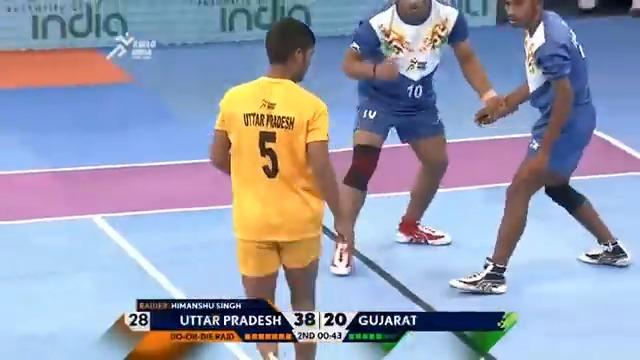Player: (448, 0, 631, 294), (329, 0, 504, 275)
Raider: (208, 16, 353, 358)
referee: (576, 0, 639, 16)
